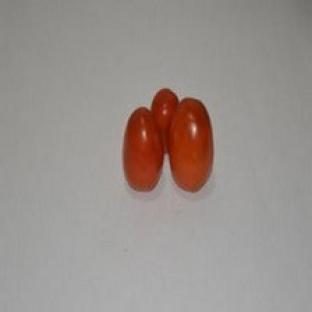Tomato: (169, 98, 213, 192), (123, 108, 164, 190), (151, 88, 178, 151)
